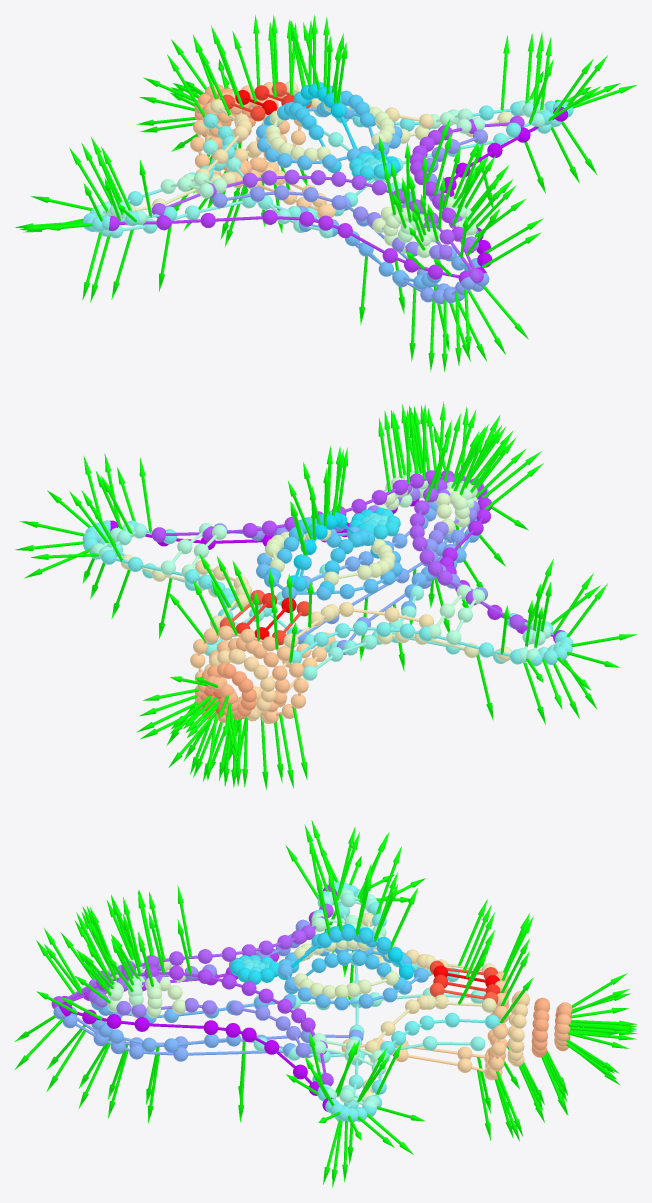
Rendered from author1_ship.gltf.
The picture shows the model from 3 angles, top to bottom: view 1: azimuth 30°, elevation 25°; view 2: azimuth 150°, elevation 25°; view 3: azimuth 270°, elevation 25°; orthographic projection. The views are drawn at different scales.
Bounding box in the file's own units: 0.9027 × 0.3872 × 0.8354.
